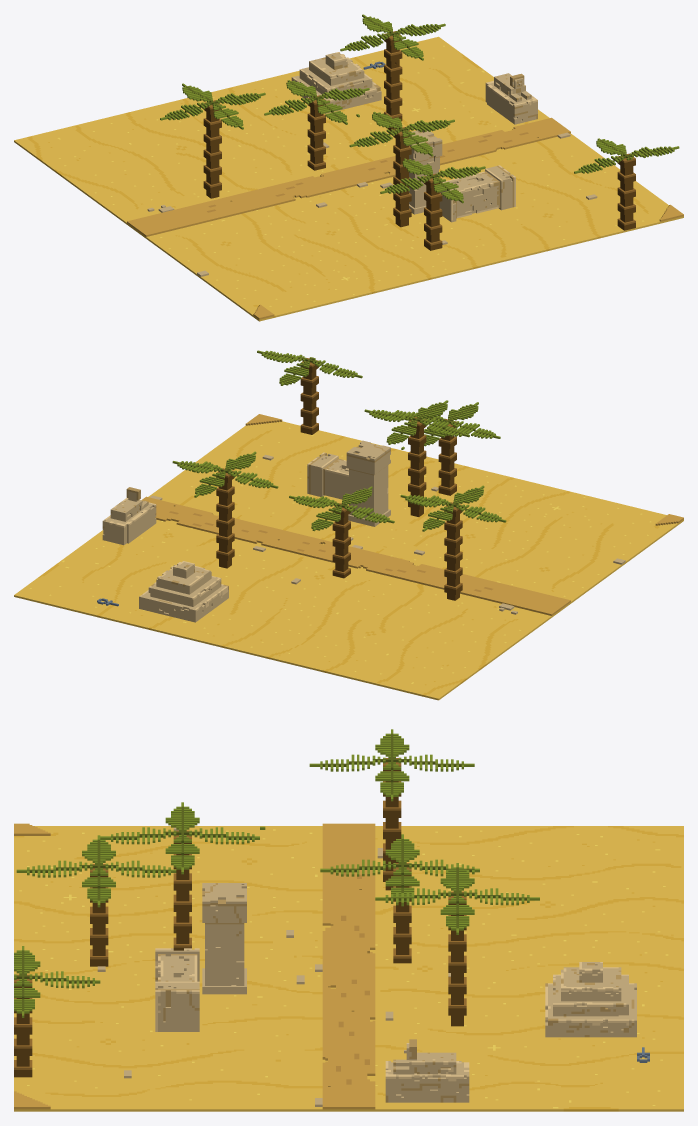
File: shadow-7.obj
3 views of the same model, one above another, from view 1: azimuth 30°, elevation 25°; view 2: azimuth 150°, elevation 25°; view 3: azimuth 270°, elevation 25° (orthographic). The views are drawn at different scales.
Bounding box in the file's own units: 25.6 × 5.6 × 25.6.
Materials: 1 (1 with a texture image).
